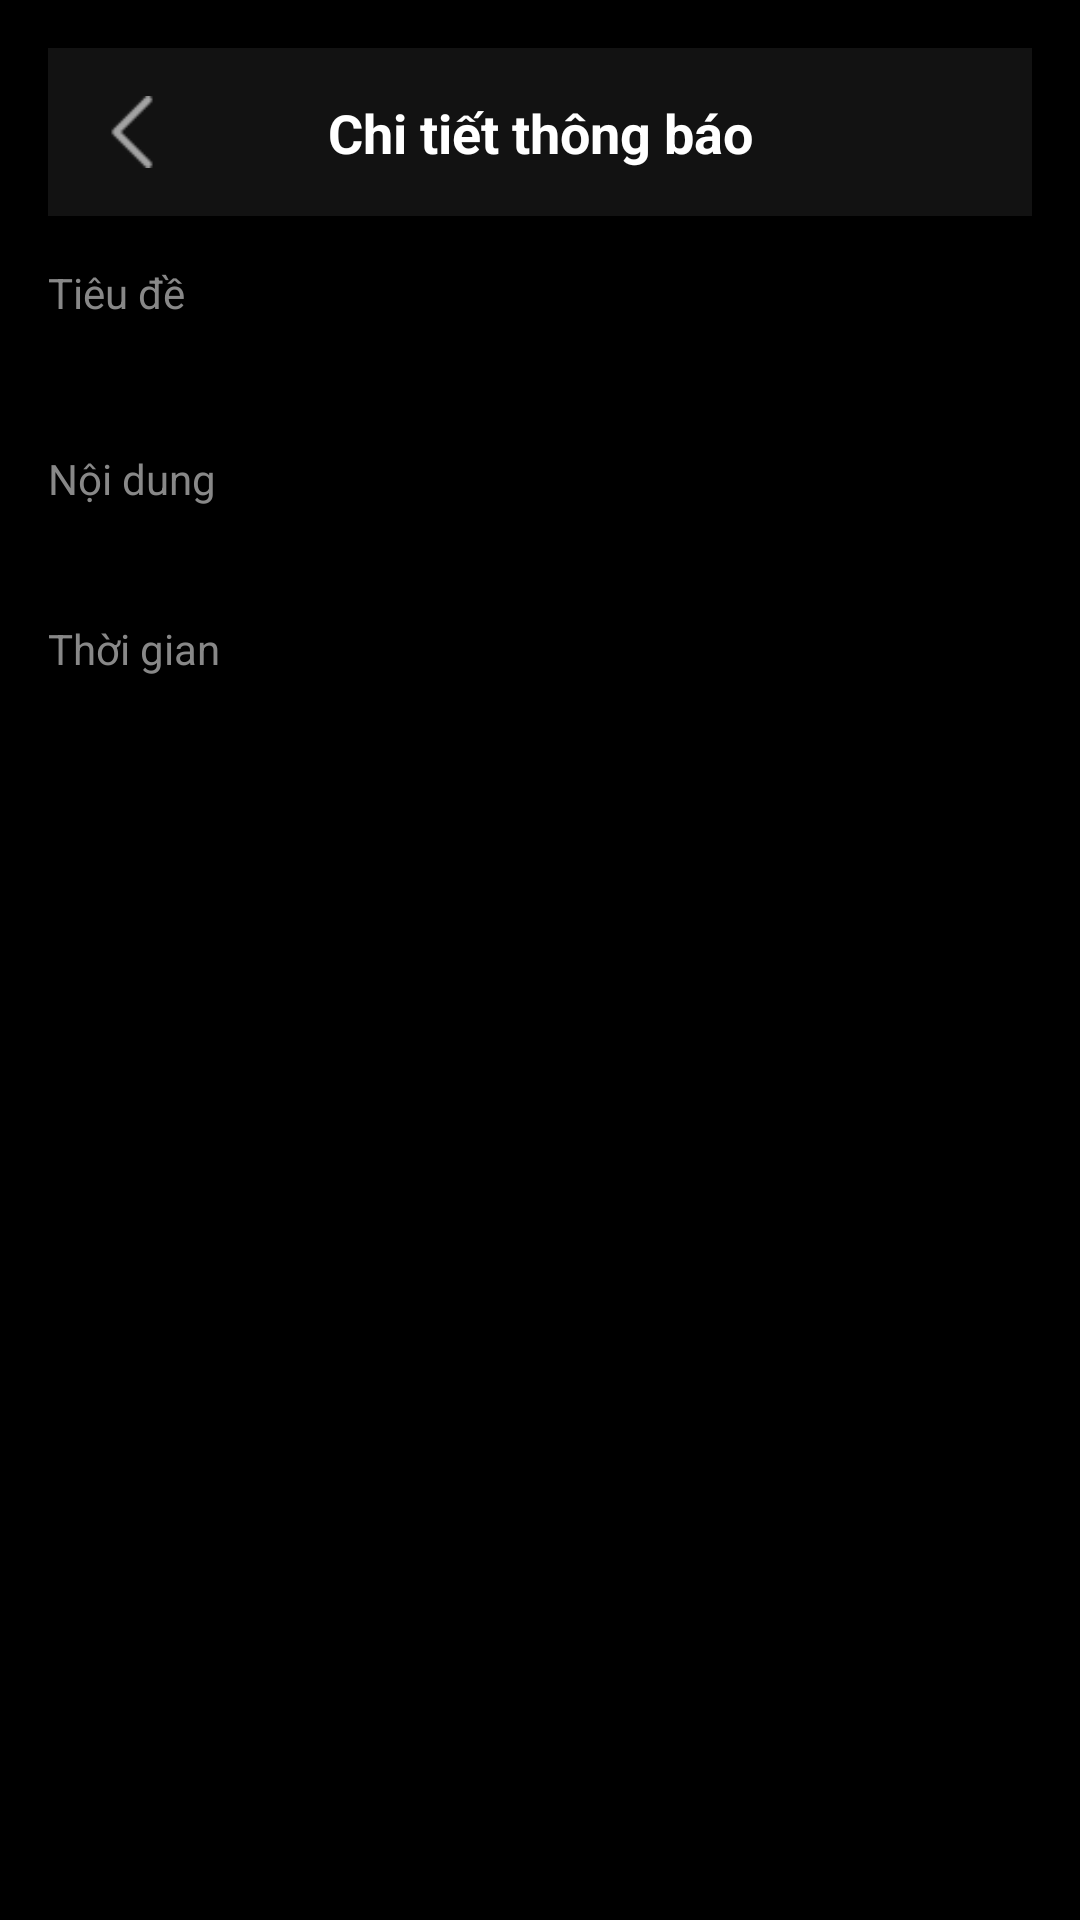

Named icons in this screenshot (1080x1920) and their bounding boxes, region(x1, y1, x2, y2):
Back: region(111, 96, 153, 168)
